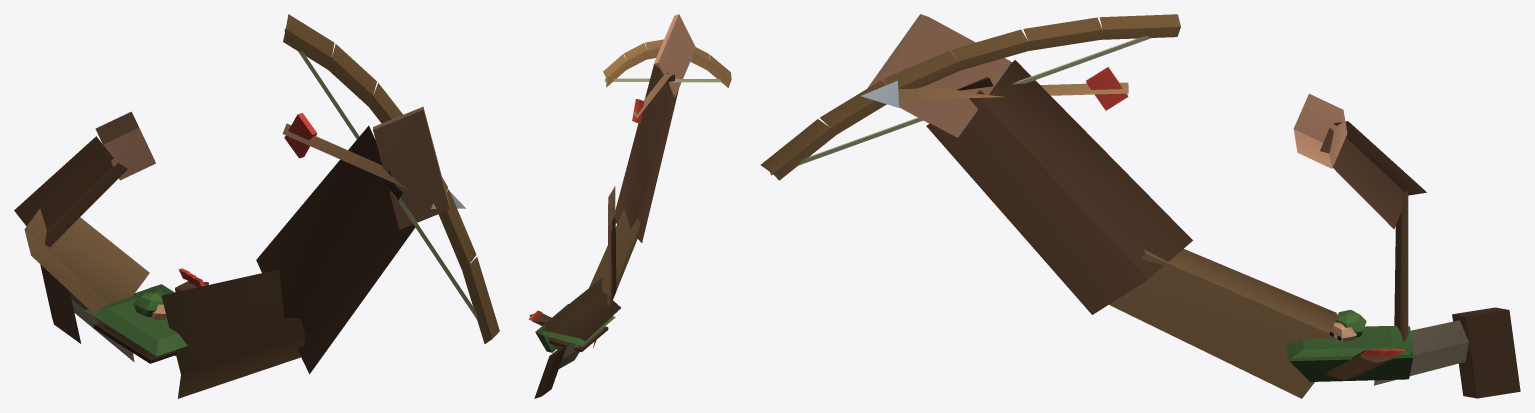
File: archer.glb
The picture shows the model from 3 angles, left to right: view 1: azimuth 30°, elevation 25°; view 2: azimuth 150°, elevation 25°; view 3: azimuth 270°, elevation 25°; orthographic projection. The views are drawn at different scales.
Visible parts, largest first — view 1: archer; view 2: archer; view 3: archer.
Part boxes in pixels (bbox=[...]): archer: bbox=[14, 14, 499, 398]; archer: bbox=[528, 14, 731, 398]; archer: bbox=[760, 14, 1520, 398].
Size of the model in its own units: 2.87 by 6.79 by 11.39.
